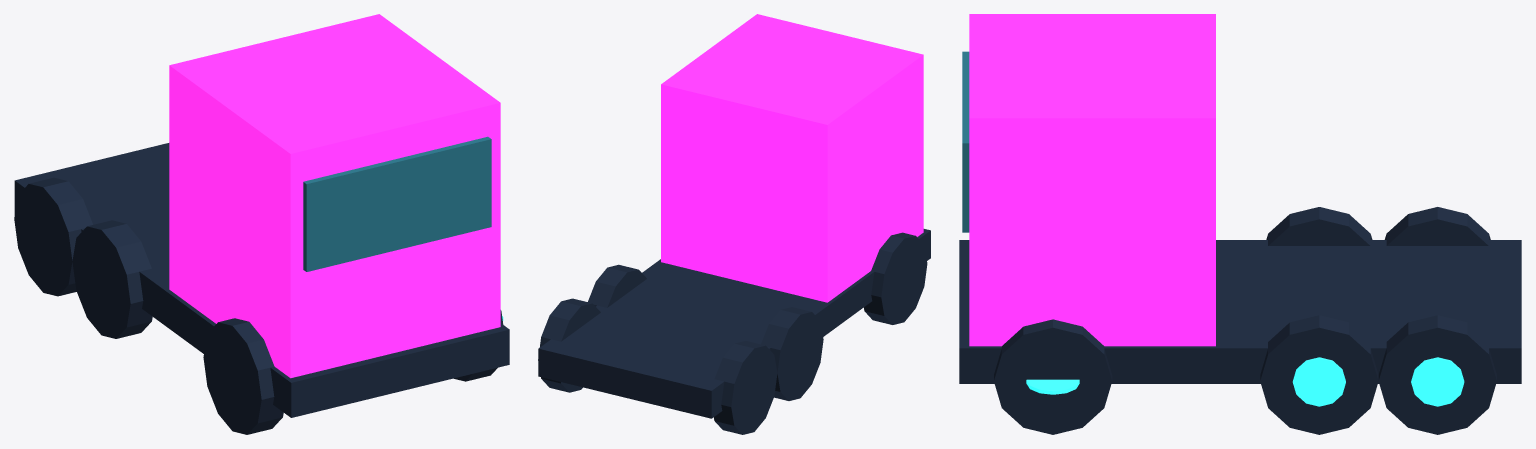
The model's file is PROP_truck_20261005.glb.
3 renders of one model, left to right at view 1: azimuth 30°, elevation 25°; view 2: azimuth 150°, elevation 25°; view 3: azimuth 270°, elevation 25°, orthographic. The views are drawn at different scales.
Parts seen in each view (by area): view 1: VEH_TruckCab, VEH_TruckChassis, VEH_TruckWindshield, VEH_Wheel.027, VEH_Wheel.028, VEH_Wheel.026; view 2: VEH_TruckCab, VEH_TruckChassis, VEH_Wheel.026, VEH_Wheel.028, VEH_Wheel.027, VEH_Wheel.029, VEH_Wheel.030; view 3: VEH_TruckCab, VEH_TruckChassis, VEH_Wheel.031, VEH_Wheel.030, VEH_Wheel.029, VEH_Wheel.026, VEH_Wheel.027, VEH_Hub.029, VEH_Hub.030, VEH_TruckWindshield, VEH_Hub.031.
Boxes of the visible parts, x1,y1,x2,y2 form: VEH_TruckCab: (169, 14, 500, 378); VEH_TruckChassis: (14, 143, 509, 417); VEH_TruckWindshield: (303, 136, 491, 271); VEH_Wheel.027: (72, 220, 152, 338); VEH_Wheel.028: (203, 318, 283, 434); VEH_Wheel.026: (14, 177, 92, 296); VEH_TruckCab: (661, 14, 923, 302); VEH_TruckChassis: (538, 229, 930, 418); VEH_Wheel.026: (714, 341, 777, 434); VEH_Wheel.028: (864, 232, 927, 324); VEH_Wheel.027: (761, 307, 823, 400); VEH_Wheel.029: (538, 298, 600, 392); VEH_Wheel.030: (588, 264, 646, 307); VEH_TruckCab: (969, 14, 1215, 346); VEH_TruckChassis: (959, 240, 1521, 383); VEH_Wheel.031: (994, 319, 1112, 434); VEH_Wheel.030: (1260, 315, 1378, 434); VEH_Wheel.029: (1378, 315, 1496, 434); VEH_Wheel.026: (1384, 207, 1490, 245); VEH_Wheel.027: (1266, 207, 1372, 245); VEH_Hub.029: (1411, 357, 1464, 406); VEH_Hub.030: (1292, 357, 1345, 406); VEH_TruckWindshield: (962, 51, 969, 232); VEH_Hub.031: (1026, 379, 1079, 394).
Size of the model in its own units: 3.18 by 3.45 by 5.7.
